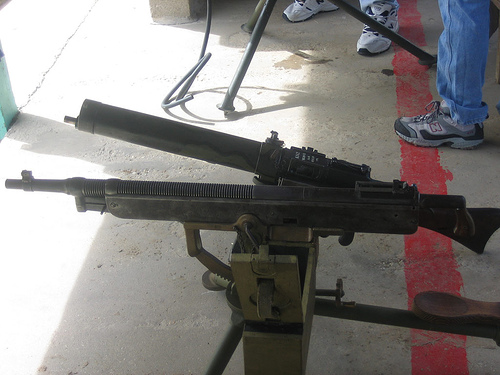rifle: (3, 84, 489, 362)
